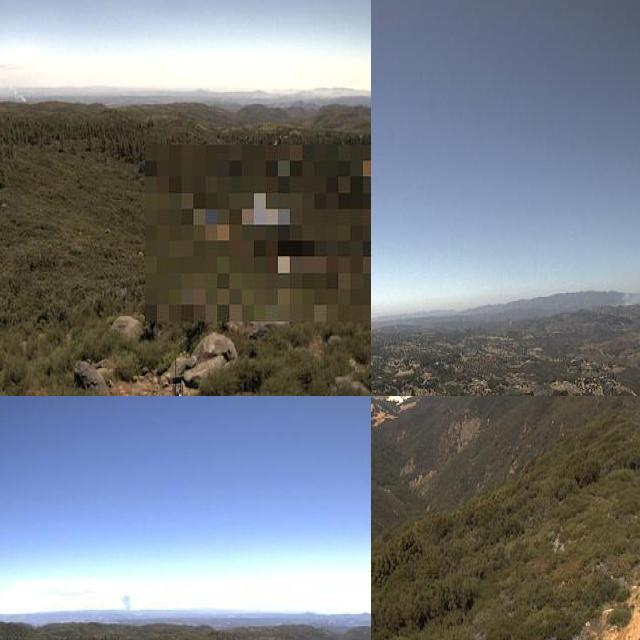smoke: (0, 62, 28, 100), (610, 275, 640, 307), (118, 591, 137, 621)
